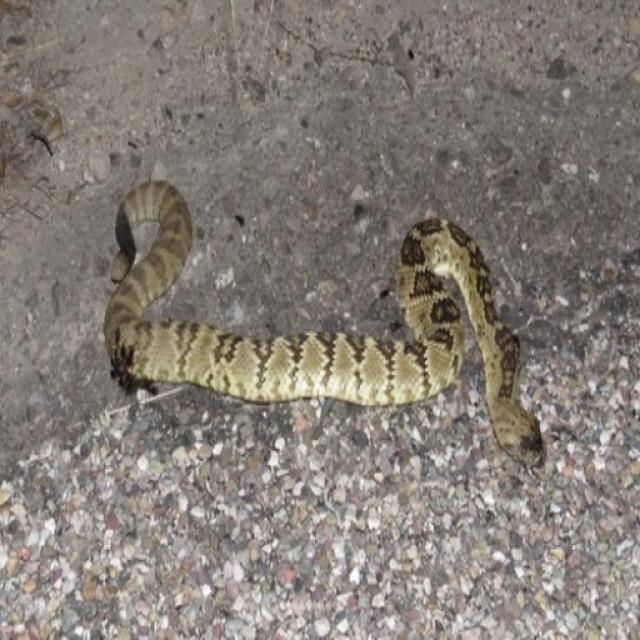snake: (96, 164, 572, 470)
